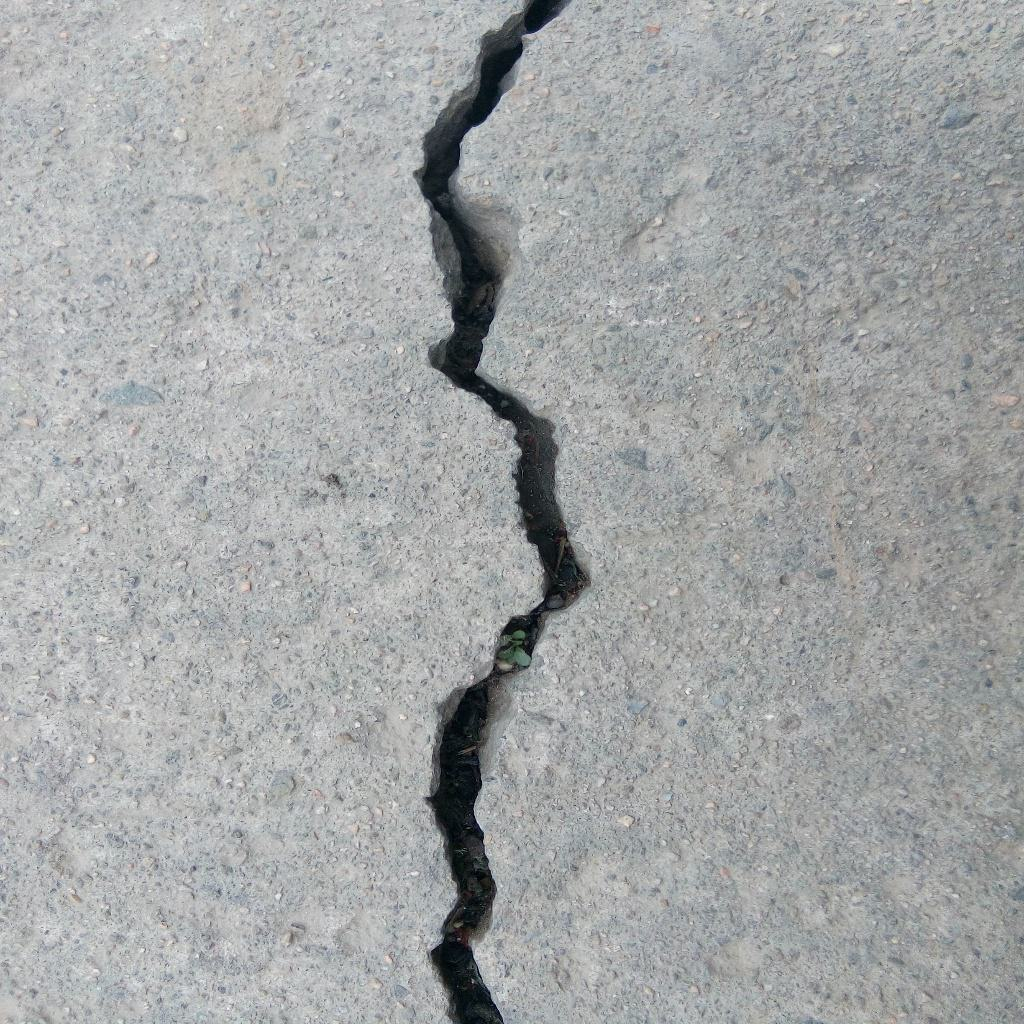Crack: (410, 1, 592, 1024)
